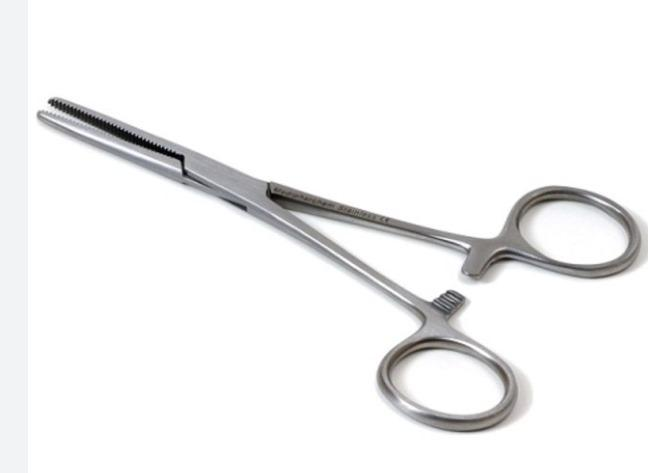Kocher Forceps: (34, 82, 638, 431)
